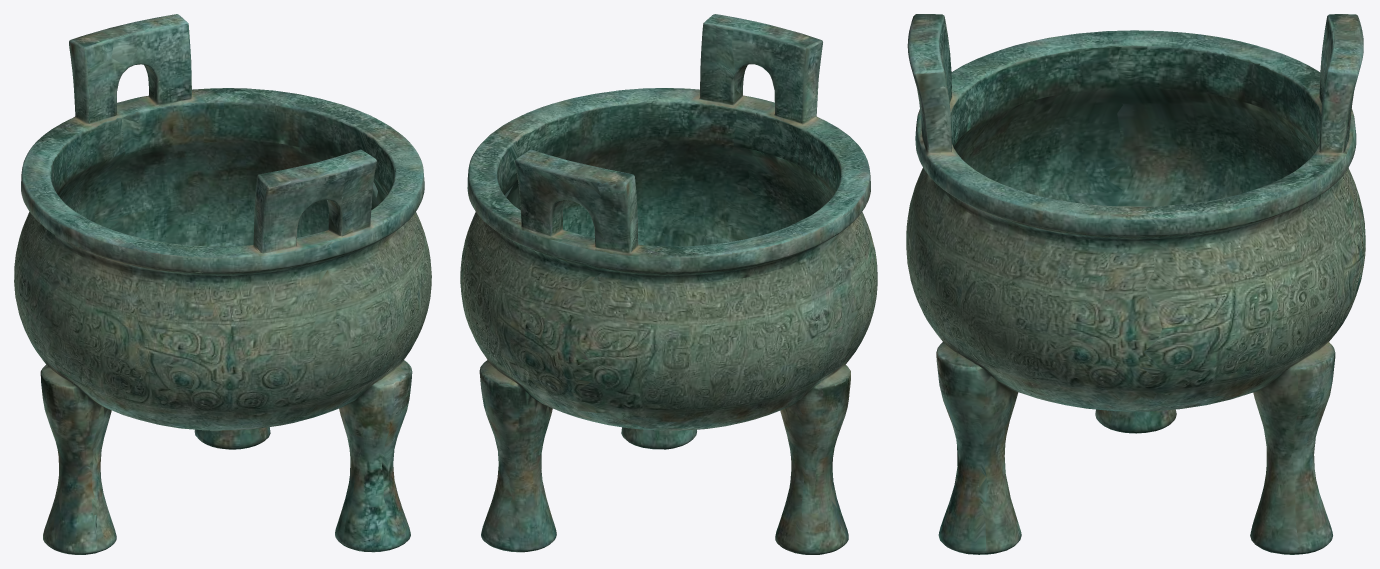
The model's file is trophy.glb.
The picture shows the model from 3 angles, left to right: view 1: azimuth 30°, elevation 25°; view 2: azimuth 150°, elevation 25°; view 3: azimuth 270°, elevation 25°; orthographic projection. The views are drawn at different scales.
Visible parts, largest first — view 1: mesh; view 2: mesh; view 3: mesh.
Part boxes in pixels (x1,y1,x2,y2): mesh: [14, 14, 431, 554]; mesh: [460, 14, 877, 554]; mesh: [906, 14, 1365, 554].
Size of the model in its own units: 0.9243 by 1 by 0.9179.
Materials: 1 (1 with a texture image).
